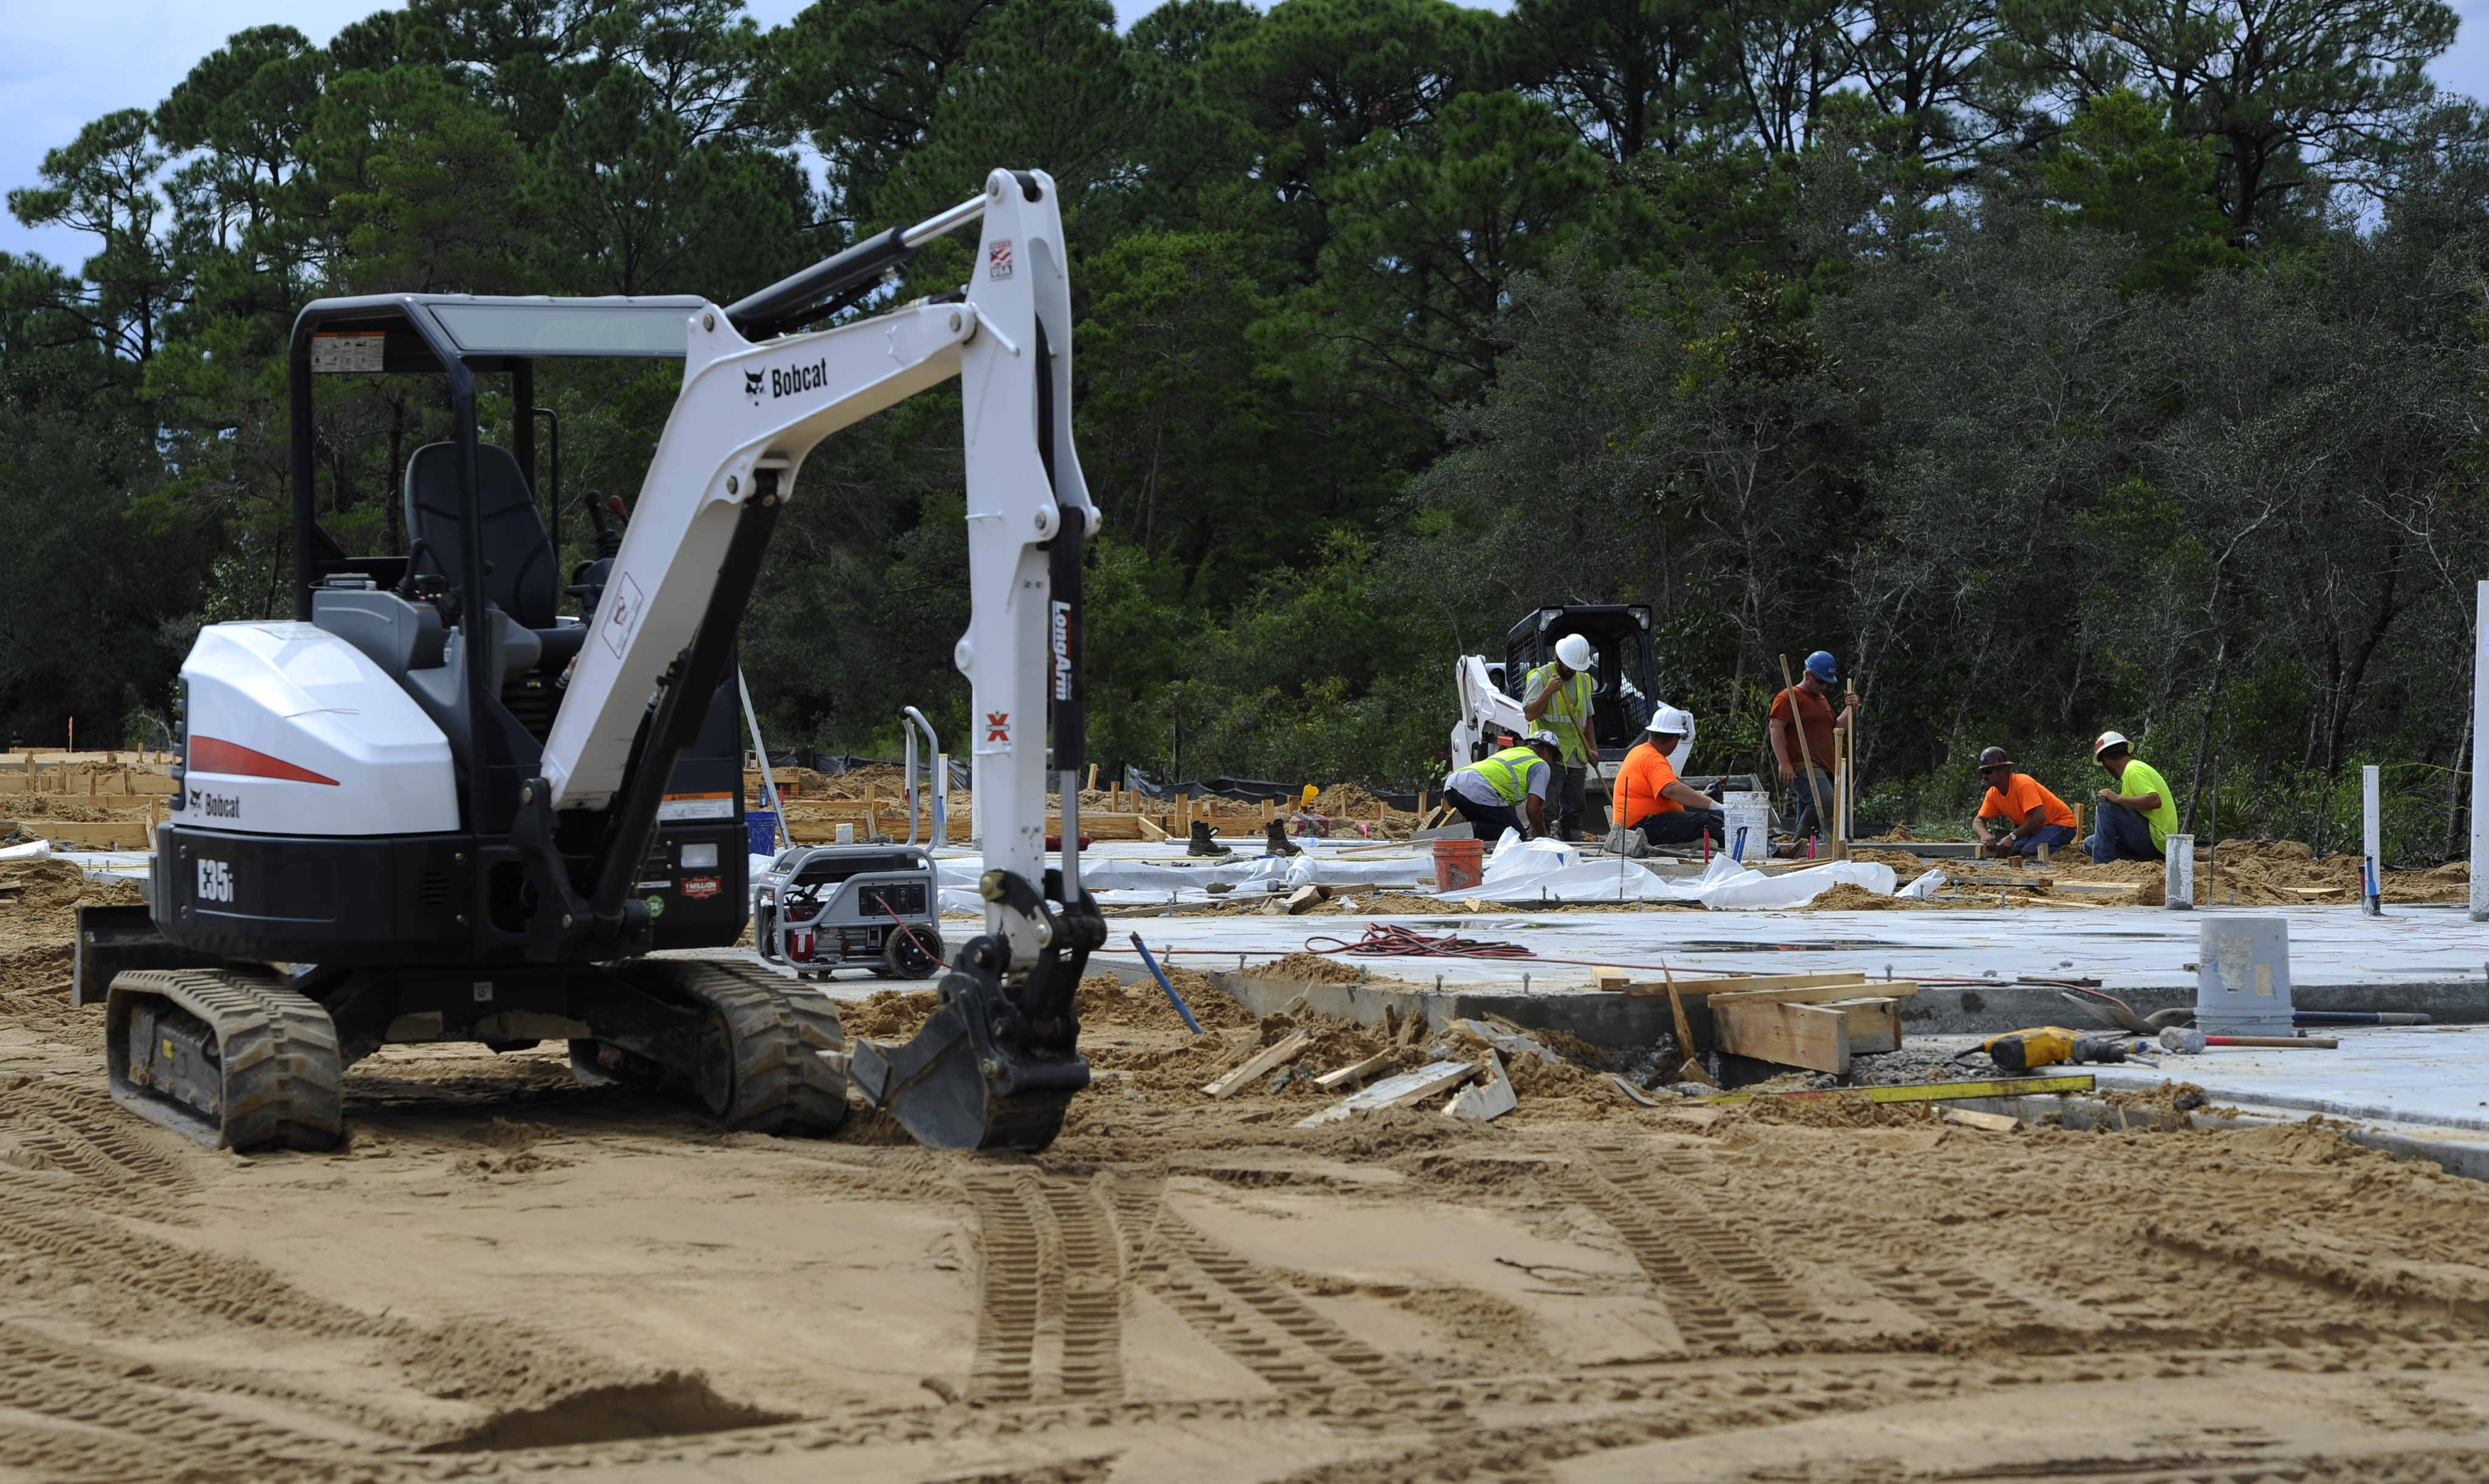blue: (1802, 648, 1837, 693), (1977, 744, 2009, 788), (1524, 726, 1560, 763)
white: (1645, 705, 1683, 756), (1551, 632, 1590, 678), (2093, 730, 2129, 774)
